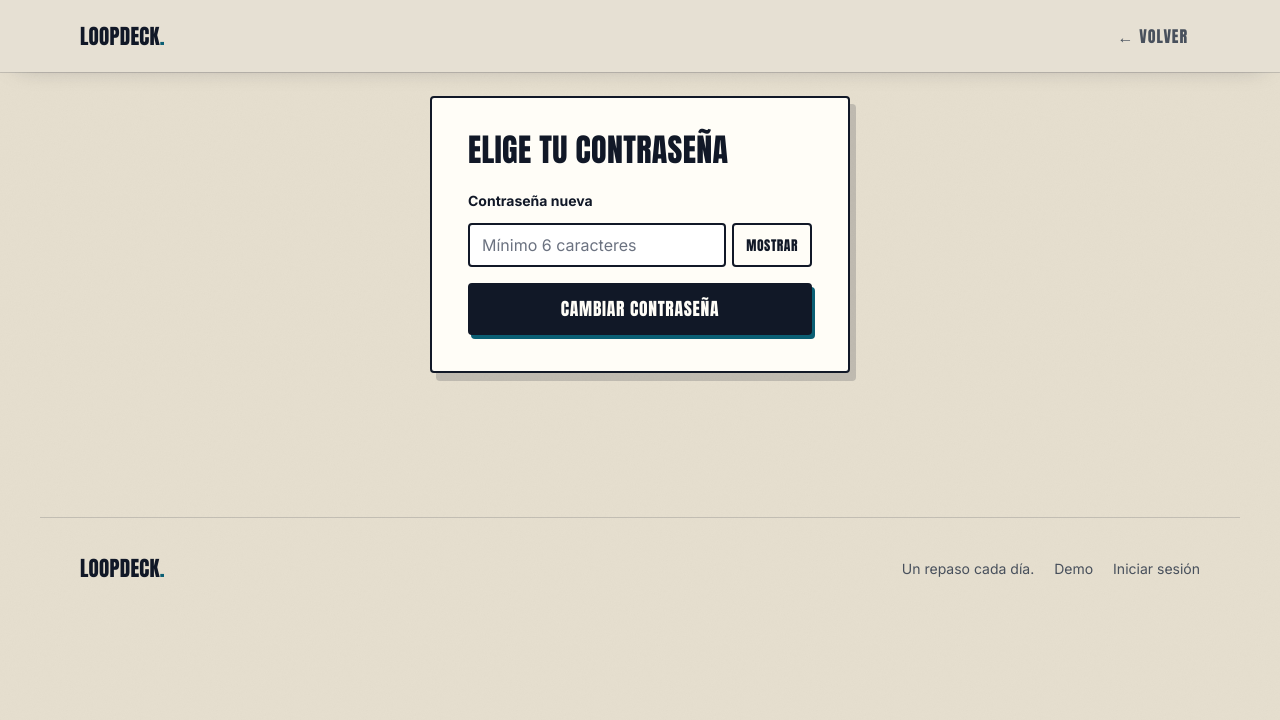
Test case: ResetPasswordPage › shows a generic error when the failure has no message
In the password field labelled "Contraseña nueva": (597,245) [468, 223, 726, 267], type "clave-nueva-1"
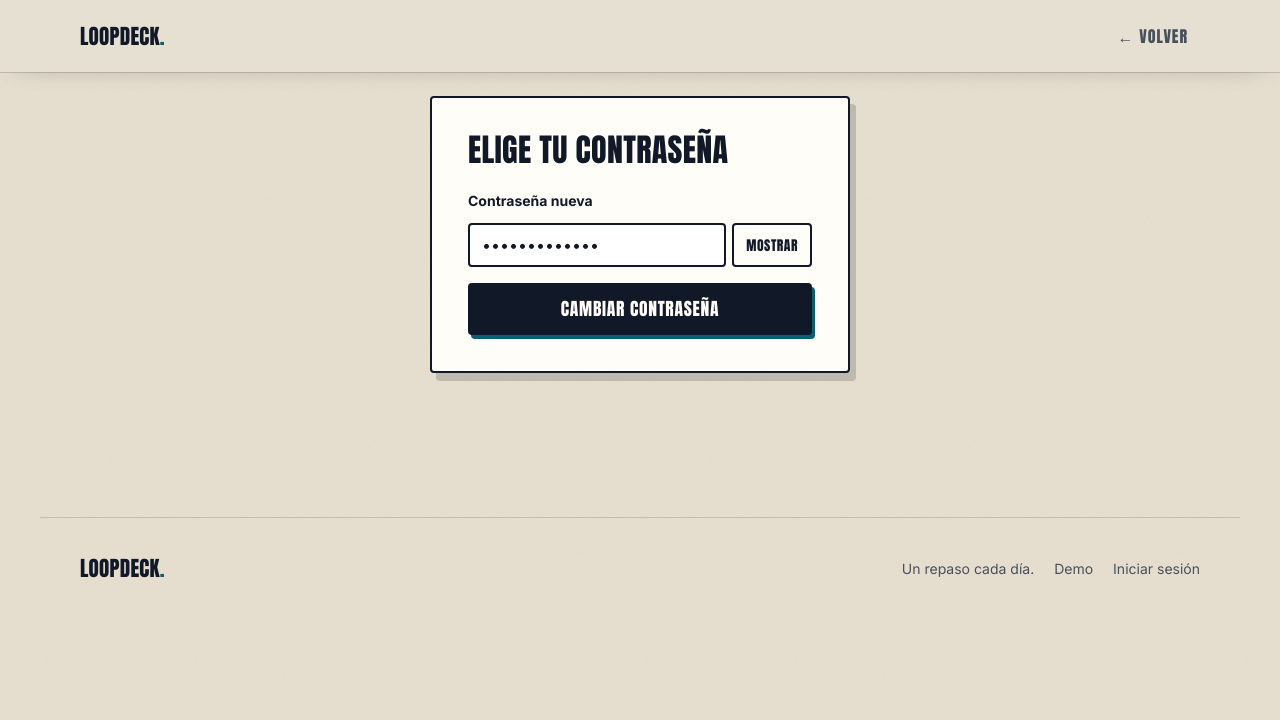
Click the button "Cambiar contraseña": (640,309) [468, 283, 812, 335]
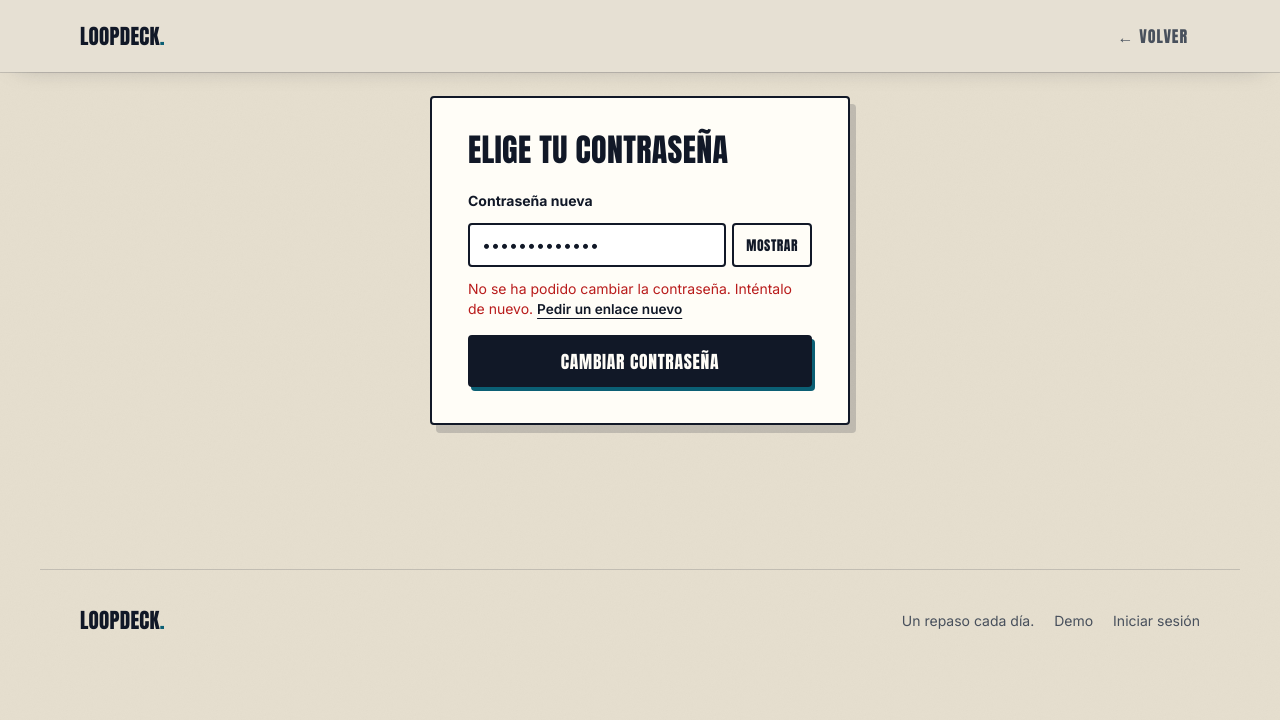
expect the message shows "No se ha podido cambiar": met, box [468, 280, 792, 317]
